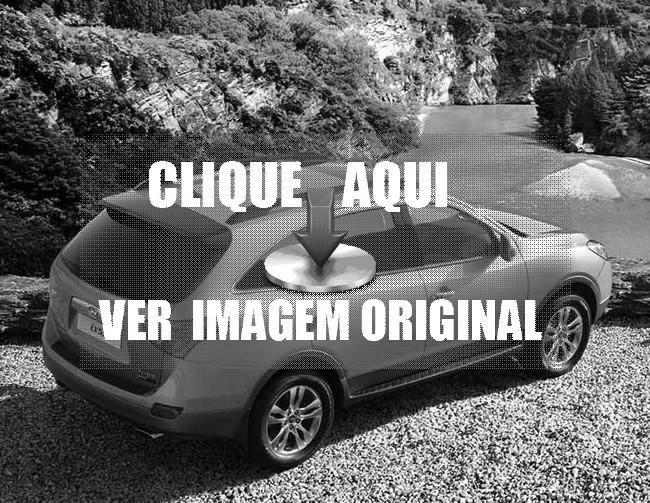car: (44, 161, 615, 471)
